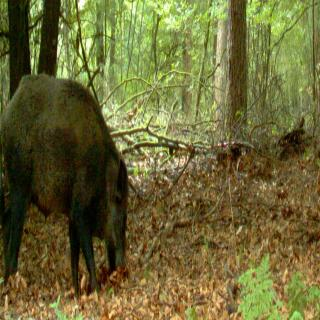Pig: (0, 38, 137, 289)
